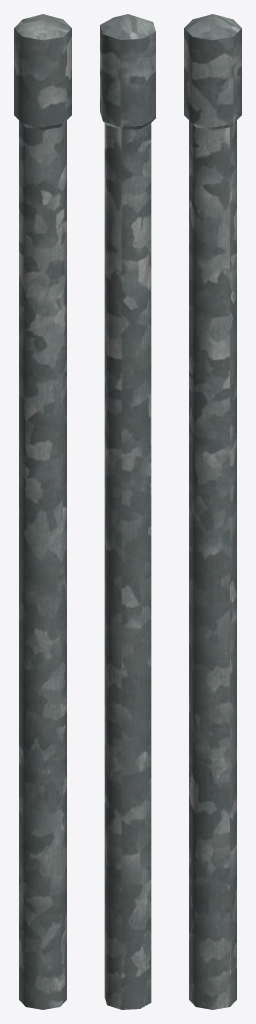
The model's file is prp_chainlinkPost.fbx.
The picture shows the model from 3 angles, left to right: view 1: azimuth 90°, elevation 25°; view 2: azimuth 210°, elevation 25°; view 3: azimuth 270°, elevation 25°; orthographic projection.
Visible parts, largest first — view 1: prp_chainlinkPost; view 2: prp_chainlinkPost; view 3: prp_chainlinkPost.
Boxes of the visible parts, <box> form: prp_chainlinkPost: <box>14,14,71,1009</box>; prp_chainlinkPost: <box>100,14,155,1009</box>; prp_chainlinkPost: <box>184,14,241,1009</box>.
Bounding box in the file's own units: 12.76 × 240 × 12.76.
